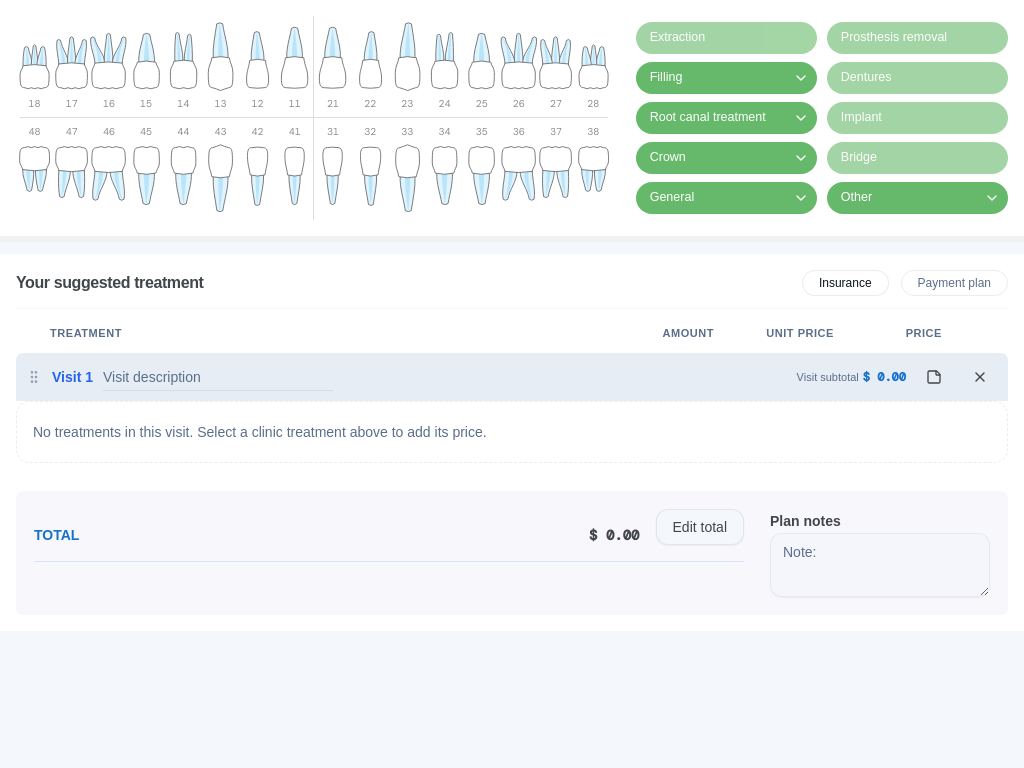
Scenario: edits the final total for an empty visit and displays a save failure
Click the button "Edit total".
click(700, 527)  # box 656,509 -> 744,545
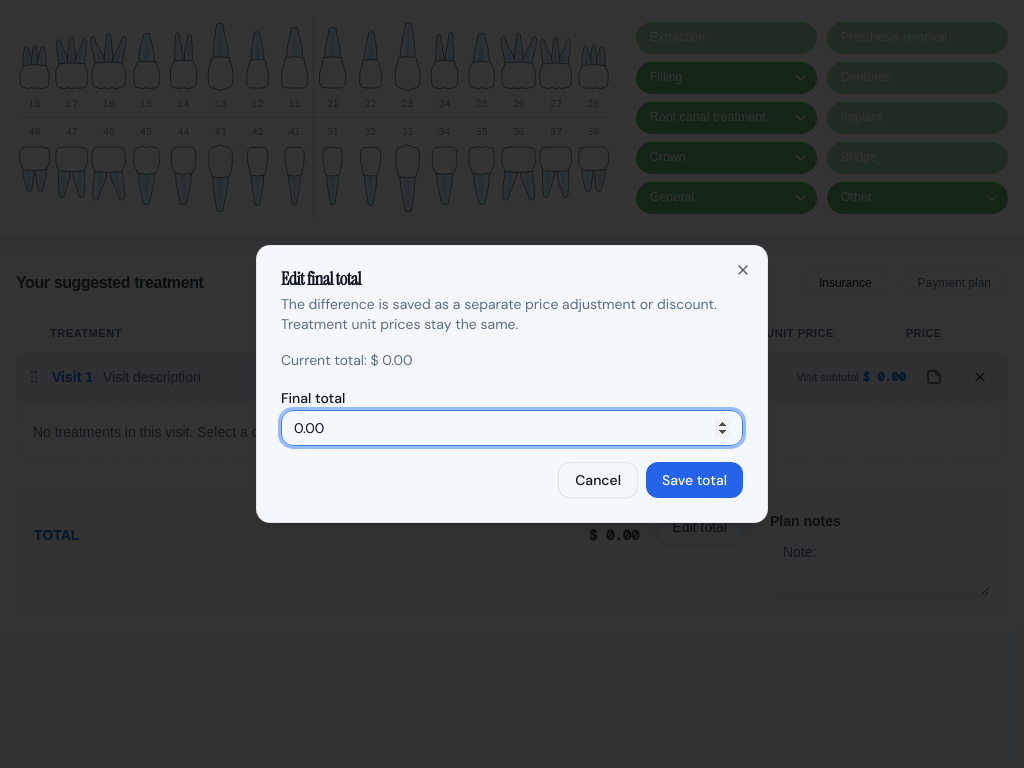
Replace the text in the number field labelled "Final total" with "250.75" at x=512, y=428, box 281,410 -> 743,446
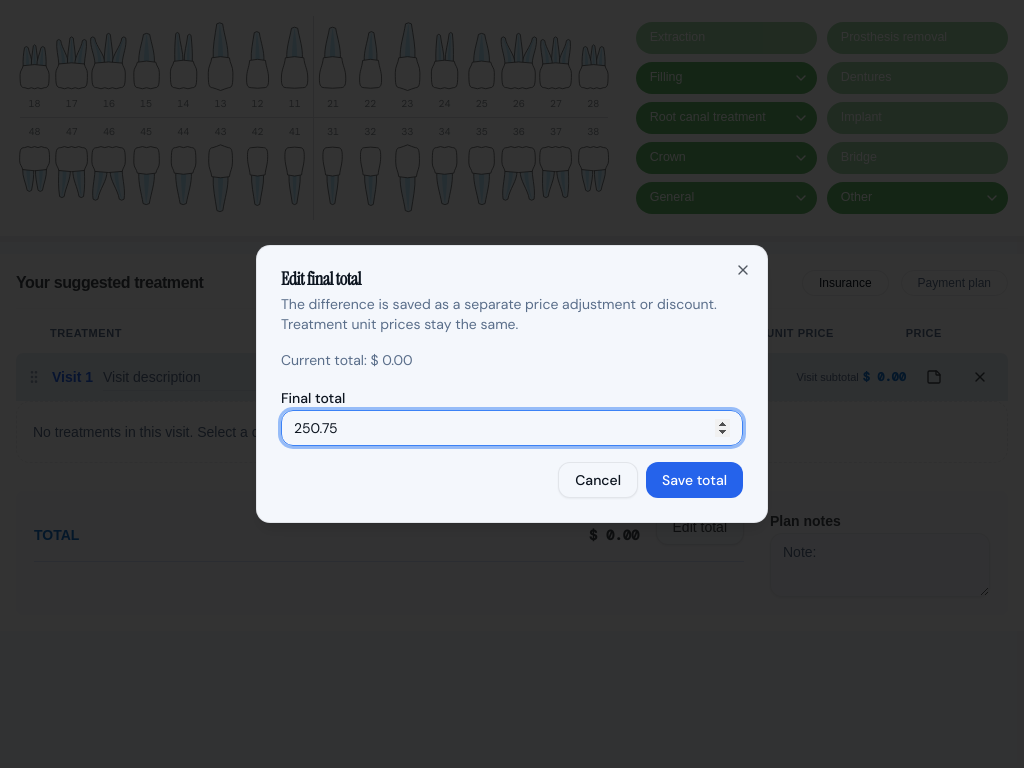
Click the button "Save total".
click(694, 480)  # box 646,462 -> 743,498
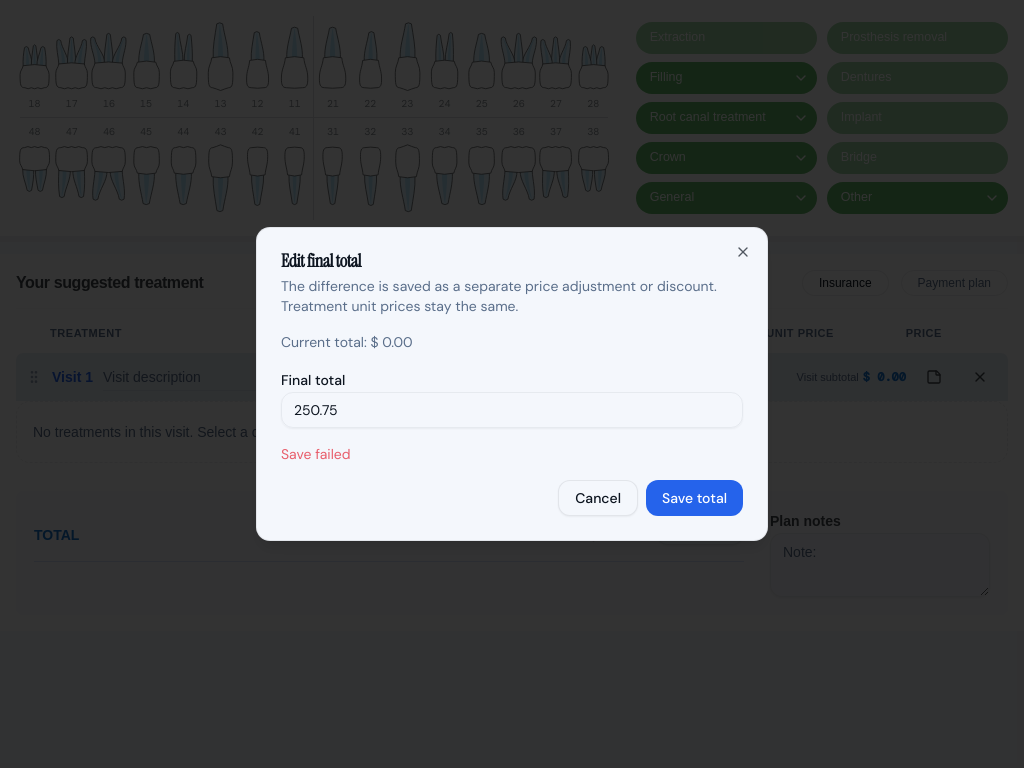
Now the message reads "Save failed", box 281,445 -> 350,463
Click the button "Save total".
click(694, 498)  # box 646,480 -> 743,516
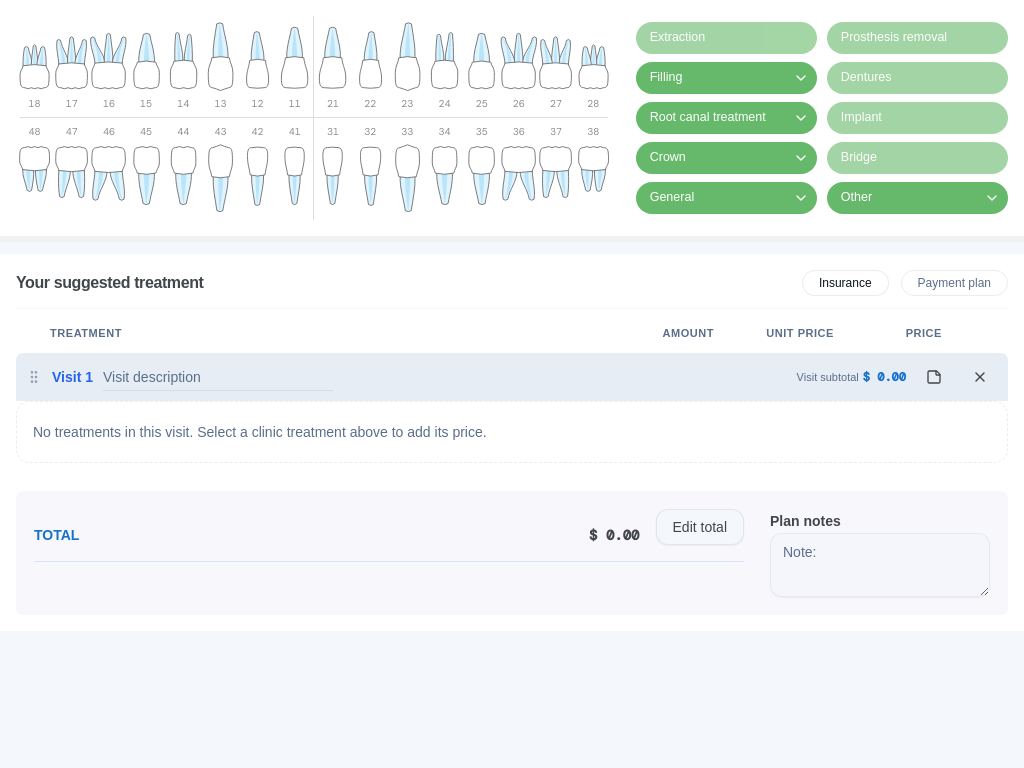
Now the dialog is gone
